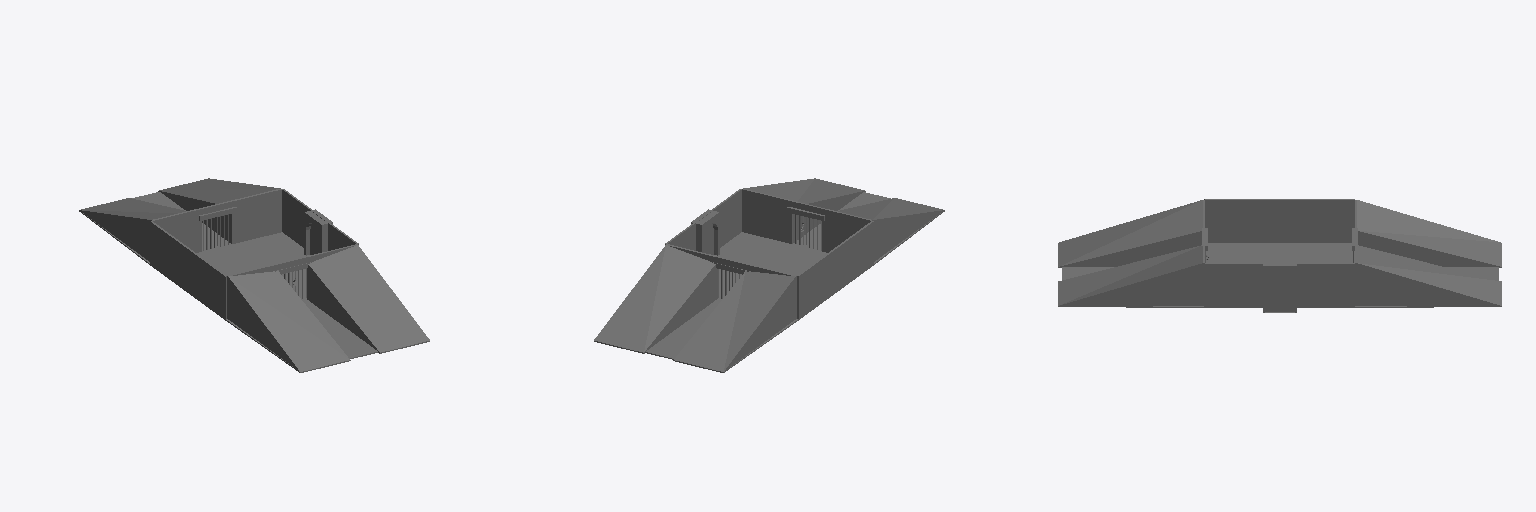
File: arena.obj
3 views of the same model, side by side, from view 1: azimuth 30°, elevation 25°; view 2: azimuth 150°, elevation 25°; view 3: azimuth 270°, elevation 25° (orthographic).
Visible parts, largest first — view 1: group4_group4; view 2: group4_group4; view 3: group4_group4.
Part boxes in pixels (x1,y1,x2,y2): group4_group4: (79, 178, 429, 372); group4_group4: (594, 178, 944, 372); group4_group4: (1058, 199, 1501, 312).
Bounding box in the file's own units: 57.59 × 19.2 × 162.